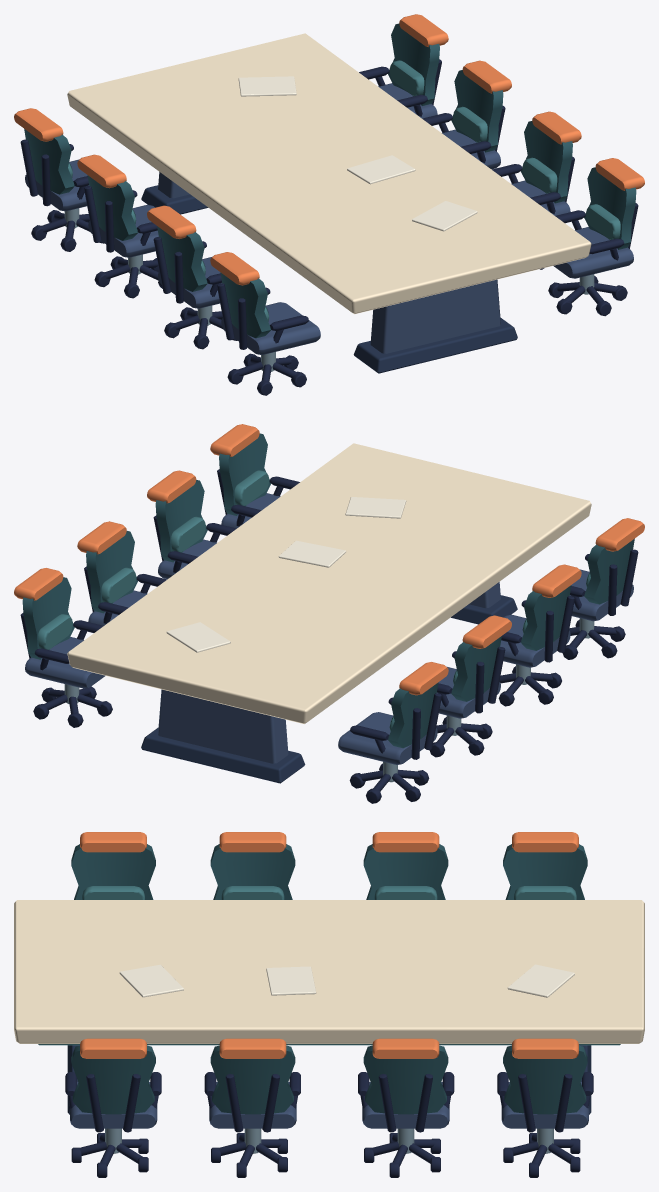
The model's file is meeting_table.glb.
3 views of the same model, one above another, from view 1: azimuth 30°, elevation 25°; view 2: azimuth 150°, elevation 25°; view 3: azimuth 270°, elevation 25° (orthographic). The views are drawn at different scales.
Parts seen in each view (by area): view 1: meeting_table; view 2: meeting_table; view 3: meeting_table.
Part boxes in pixels (x1,y1,x2,y2): meeting_table: (14, 14, 644, 395); meeting_table: (14, 424, 644, 803); meeting_table: (14, 832, 644, 1177).
Bounding box in the file's own units: 3.77 × 1.12 × 4.62.
